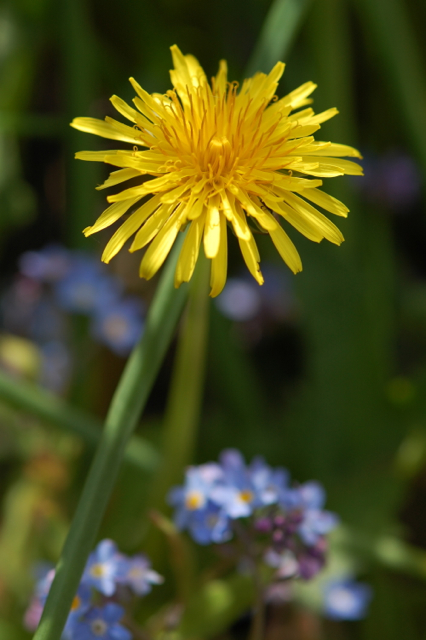dandelion: (95, 61, 340, 266)
